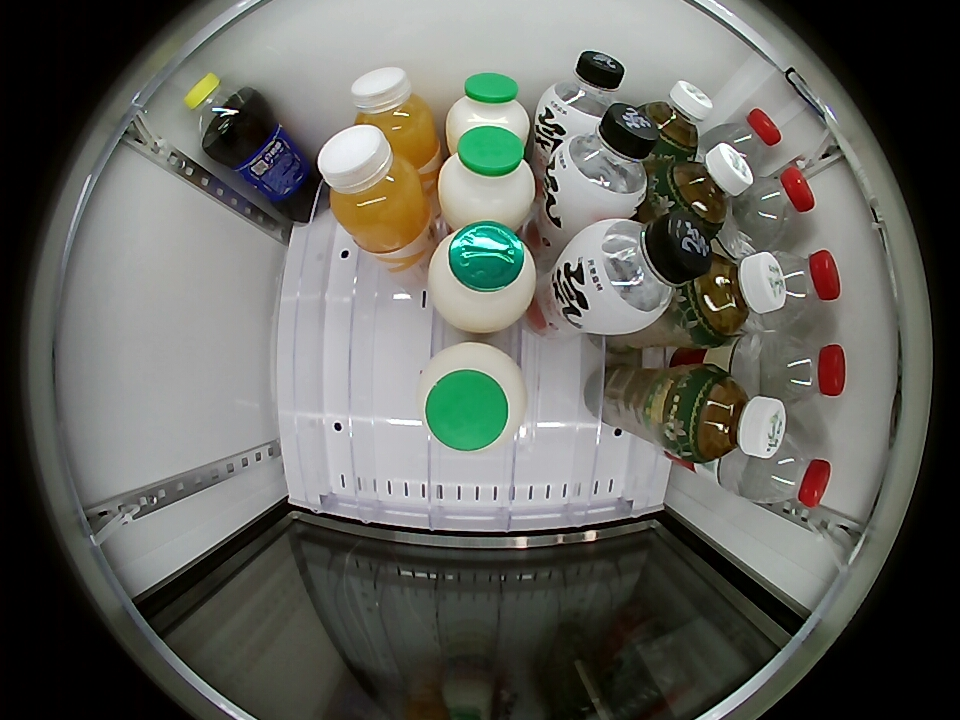baishikele: (183, 72, 256, 148)
liziyuan: (429, 222, 536, 331), (420, 343, 525, 452), (438, 123, 536, 228), (446, 72, 529, 147)
moliqingcha: (672, 365, 787, 464), (680, 251, 787, 343), (655, 143, 754, 234), (637, 80, 711, 160)
nongfushanquan: (743, 432, 832, 507), (738, 166, 816, 244), (762, 334, 847, 404), (766, 248, 841, 325), (711, 107, 783, 173)
weic: (318, 125, 433, 252), (351, 67, 439, 167)
yuanqishui: (564, 211, 712, 334), (547, 104, 660, 219), (539, 51, 625, 133)
